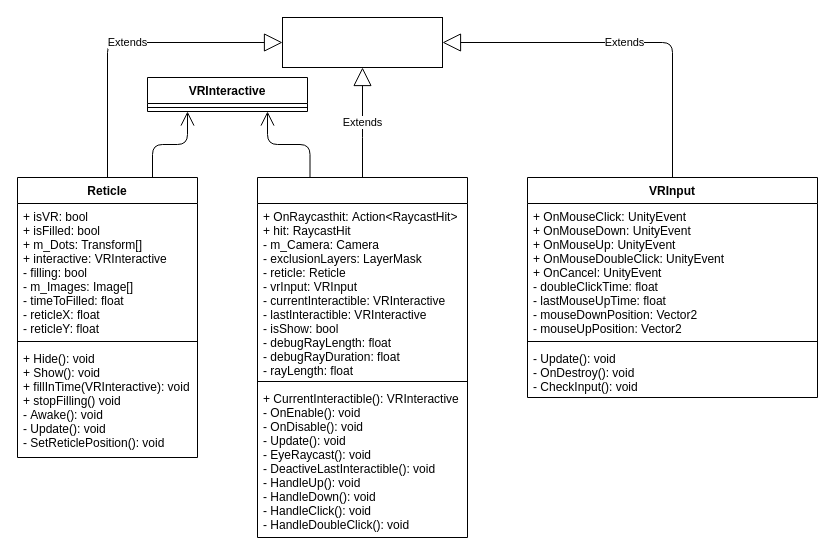
The diagram is 835 pixels wide and 558 high, and some of its shapes have lost their labels. The box of each missing label's shape, as (x1, y1, x2, y2) in pixels:
VREyeRaycaster: (256, 176, 468, 538)
«namespace» ProjectName.Handler: (282, 16, 442, 68)
